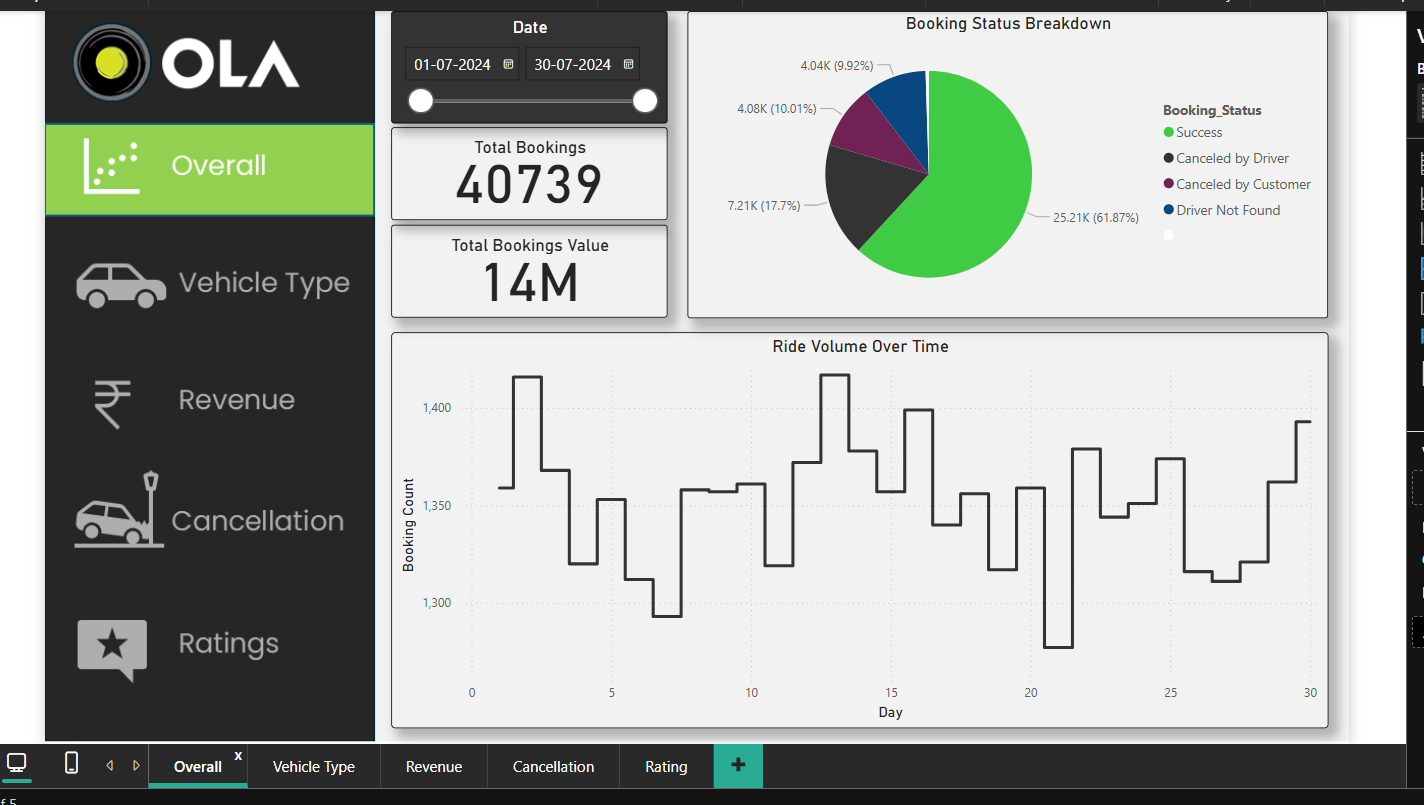

What the dashboard file says about the page in this screenshot:
{"tool":"powerbi","page":{"name":"Overall","canvas":[1280,720],"ordinal":0},"visuals":[{"type":"actionButton","box":[0,220.9,322.7,94.5],"z":0},{"type":"actionButton","box":[0,331.3,322.7,94.5],"z":1000},{"type":"actionButton","box":[0,440.5,322.7,94.5],"z":2000},{"type":"actionButton","box":[0,574.2,322.7,94.5],"z":3000},{"type":"actionButton","box":[0,110.4,322.7,94.5],"z":4000},{"type":"lineChart","title":"Ride Volume Over Time","fields":{"Y":["Count(July.Booking_ID)"],"Category":["July.Date.Variation.Date Hierarchy.Day"]},"box":[339.9,315.3,920.3,389],"z":5000},{"type":"pieChart","title":"Booking Status Breakdown","fields":{"Category":["July.Booking_Status"],"Y":["CountNonNull(July.Booking_Status)"]},"box":[631.2,0,628.8,301.2],"z":6000},{"type":"slicer","title":"Date","fields":{"Values":["July.Date"]},"box":[340,0,271.2,110],"z":7000},{"type":"card","title":"Total Bookings","fields":{"Values":["CountNonNull(July.Booking_Status)"]},"box":[340,113.8,271.2,91.2],"z":8000},{"type":"card","title":"Total Bookings Value","fields":{"Values":["Sum(July.Booking_Value)"]},"box":[340,210,271.2,91.2],"z":9000}]}

Visuals, with their boxes on the page's 1280x720 design canvas (x1, y1, x2, y2). These are canvas units, not pixel positions in the 1424x805 screenshot, which may show the page scaled, cropped or inside an application window:
actionButton: box(0, 221, 323, 315)
actionButton: box(0, 331, 323, 426)
actionButton: box(0, 440, 323, 535)
actionButton: box(0, 574, 323, 669)
actionButton: box(0, 110, 323, 205)
"Ride Volume Over Time" lineChart: box(340, 315, 1260, 704)
"Booking Status Breakdown" pieChart: box(631, 0, 1260, 301)
"Date" slicer: box(340, 0, 611, 110)
"Total Bookings" card: box(340, 114, 611, 205)
"Total Bookings Value" card: box(340, 210, 611, 301)
